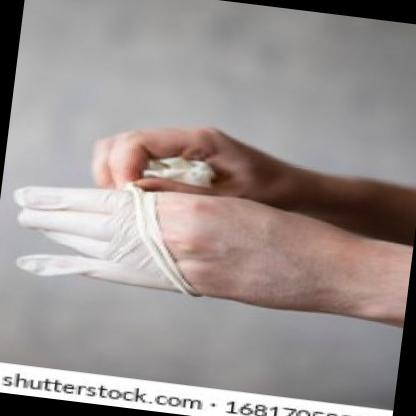Gloves: (0, 171, 216, 300)
